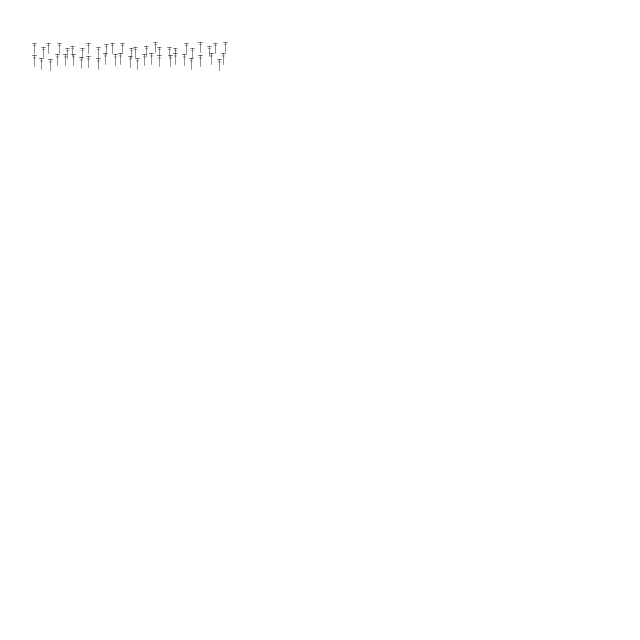double treble: (70, 46, 76, 58), (80, 48, 86, 60), (104, 44, 110, 56), (144, 46, 150, 58), (190, 48, 196, 60), (198, 42, 204, 54), (32, 55, 38, 67), (48, 59, 54, 71), (86, 56, 92, 68), (96, 58, 102, 70), (118, 53, 124, 65), (128, 56, 134, 68), (142, 54, 148, 66), (168, 55, 174, 67), (182, 54, 188, 66), (198, 55, 204, 67), (32, 44, 38, 54), (46, 44, 52, 54), (86, 44, 92, 54), (96, 48, 102, 58), (110, 44, 116, 54), (120, 44, 126, 54), (184, 44, 190, 54), (66, 48, 70, 60), (130, 48, 134, 60), (154, 42, 158, 54), (174, 48, 178, 60), (208, 46, 212, 58), (224, 42, 228, 54), (40, 58, 44, 70), (56, 54, 60, 66), (64, 54, 68, 66), (72, 54, 76, 66), (80, 57, 84, 69), (104, 53, 108, 65), (114, 54, 118, 66), (136, 58, 140, 70), (150, 53, 154, 65), (158, 55, 162, 67), (174, 53, 178, 65), (190, 58, 194, 70), (210, 53, 214, 65), (218, 59, 222, 71), (222, 53, 226, 65), (42, 48, 46, 58), (58, 44, 62, 54), (134, 48, 138, 58), (158, 48, 162, 58), (168, 48, 172, 58), (214, 44, 218, 54)
